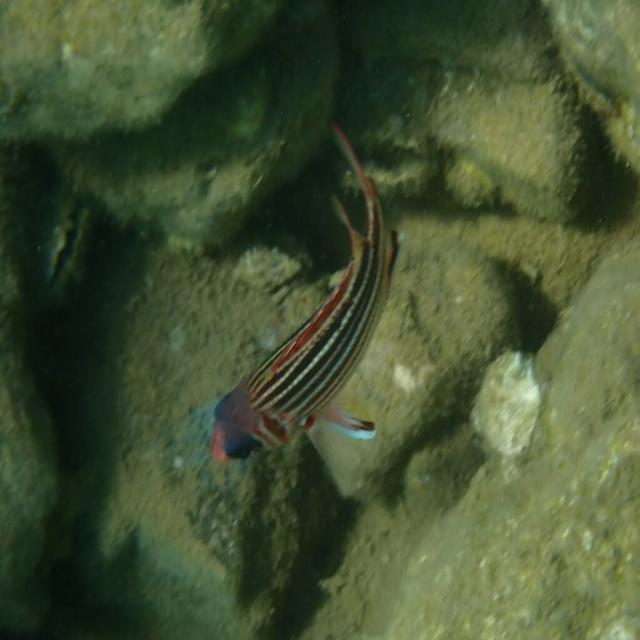Asker Baligi: (197, 110, 418, 476)
